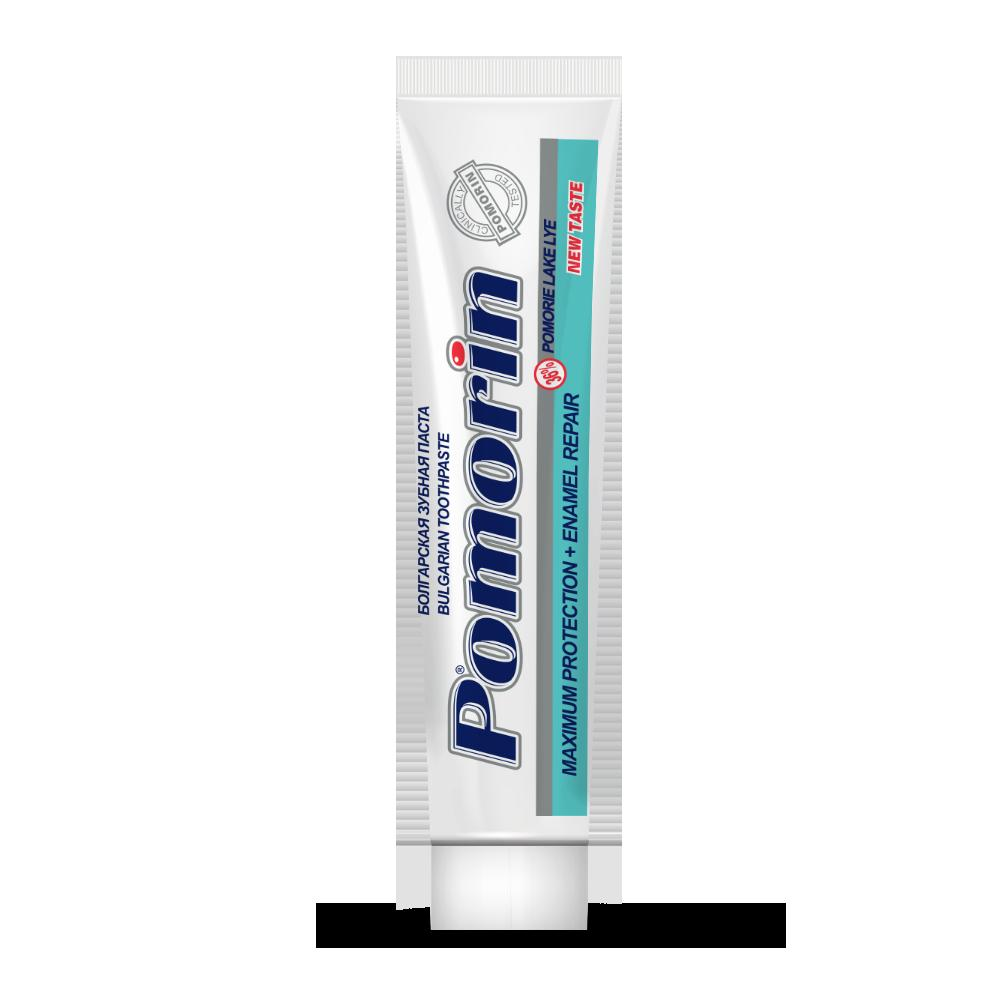toothpaste: (375, 31, 652, 946)
